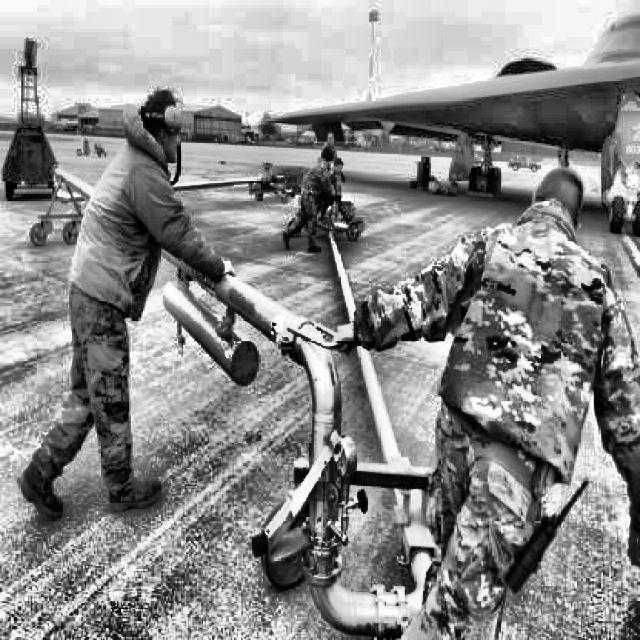B2: (266, 11, 640, 238)
